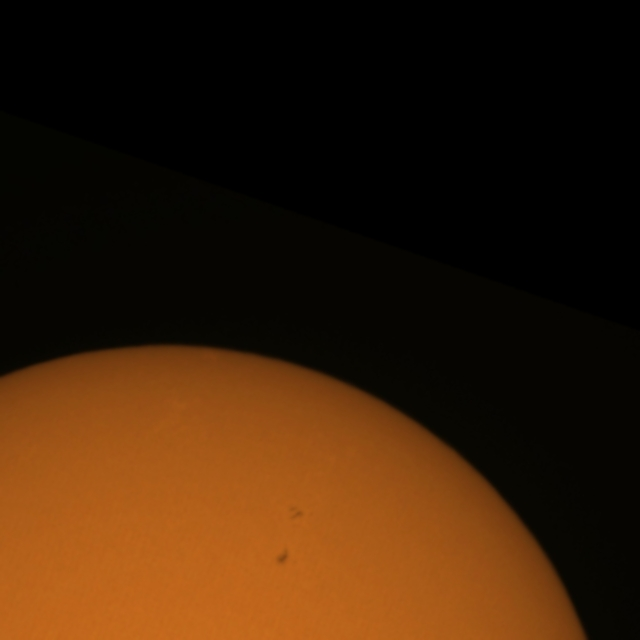sunspot: (273, 546, 292, 568), (286, 504, 309, 522)
